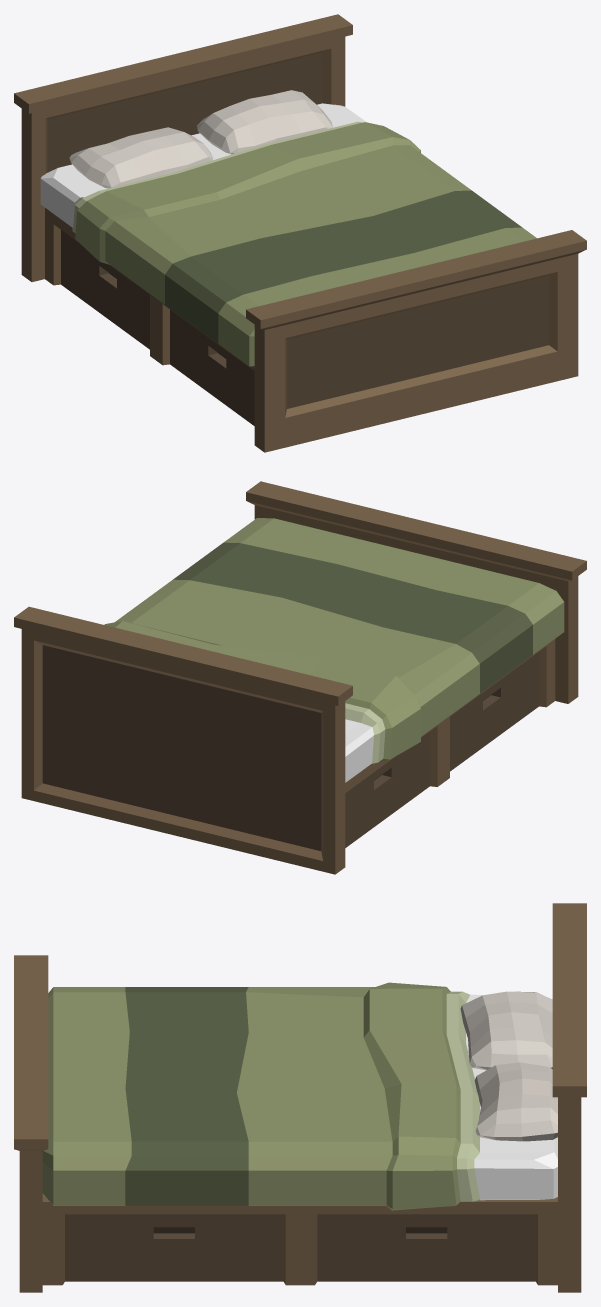
The model's file is SM_Prop_Bed_Double_02.fbx.
3 renders of one model, top to bottom at view 1: azimuth 30°, elevation 25°; view 2: azimuth 150°, elevation 25°; view 3: azimuth 270°, elevation 25°, orthographic. The views are drawn at different scales.
Parts seen in each view (by area): view 1: SM_Prop_Bed_Double_02; view 2: SM_Prop_Bed_Double_02; view 3: SM_Prop_Bed_Double_02.
Boxes of the visible parts, box(x1,y1,x2,y2) form: SM_Prop_Bed_Double_02: box(14, 14, 586, 452); SM_Prop_Bed_Double_02: box(14, 481, 586, 874); SM_Prop_Bed_Double_02: box(14, 903, 586, 1292).
Size of the model in its own units: 217 by 115 by 285.
